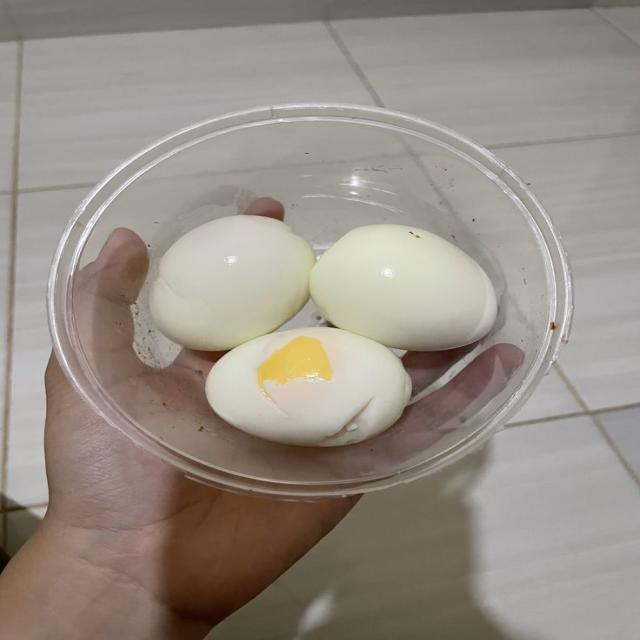egg boiled: (206, 329, 411, 446), (310, 225, 497, 350), (150, 216, 315, 350)
